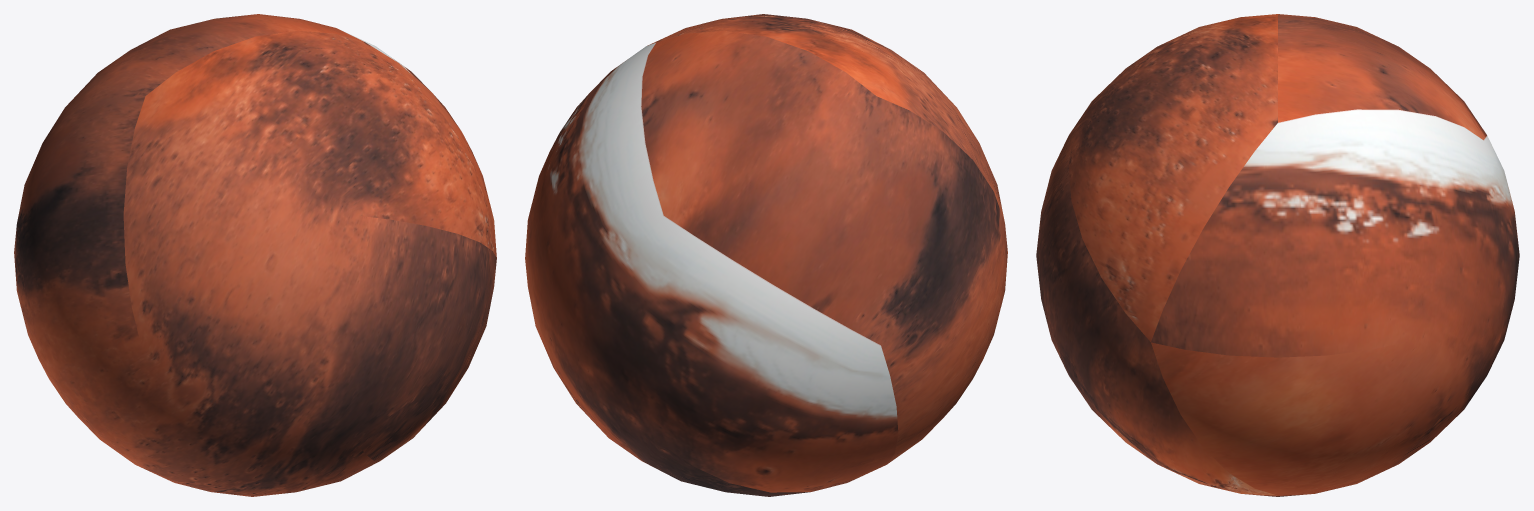
The model's file is mars.glb.
The picture shows the model from 3 angles, left to right: view 1: azimuth 30°, elevation 25°; view 2: azimuth 150°, elevation 25°; view 3: azimuth 270°, elevation 25°; orthographic projection.
Visible parts, largest first — view 1: Sphere; view 2: Sphere; view 3: Sphere.
Boxes of the visible parts, x1,y1,x2,y2 form: Sphere: (14, 14, 496, 496); Sphere: (525, 14, 1007, 496); Sphere: (1036, 14, 1519, 496).
Bounding box in the file's own units: 200 × 200 × 200.
Materials: 1 (1 with a texture image).
